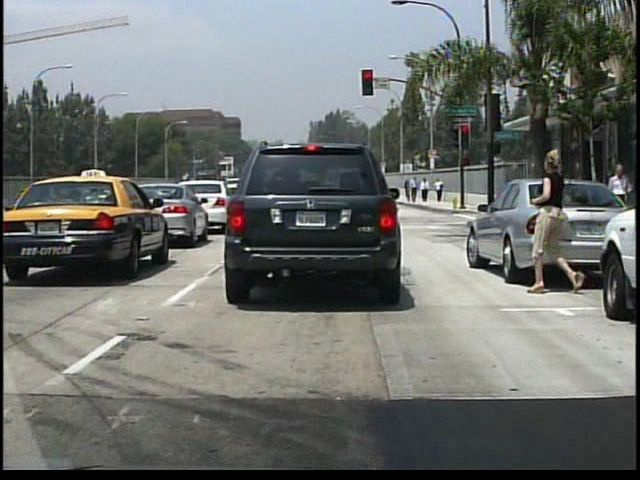person: (524, 140, 585, 294), (603, 160, 631, 235), (434, 176, 445, 203), (410, 175, 420, 203), (421, 177, 430, 203), (405, 178, 414, 200)
